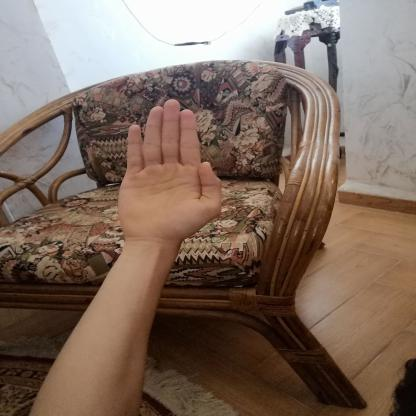SEEN: (108, 90, 230, 251)
